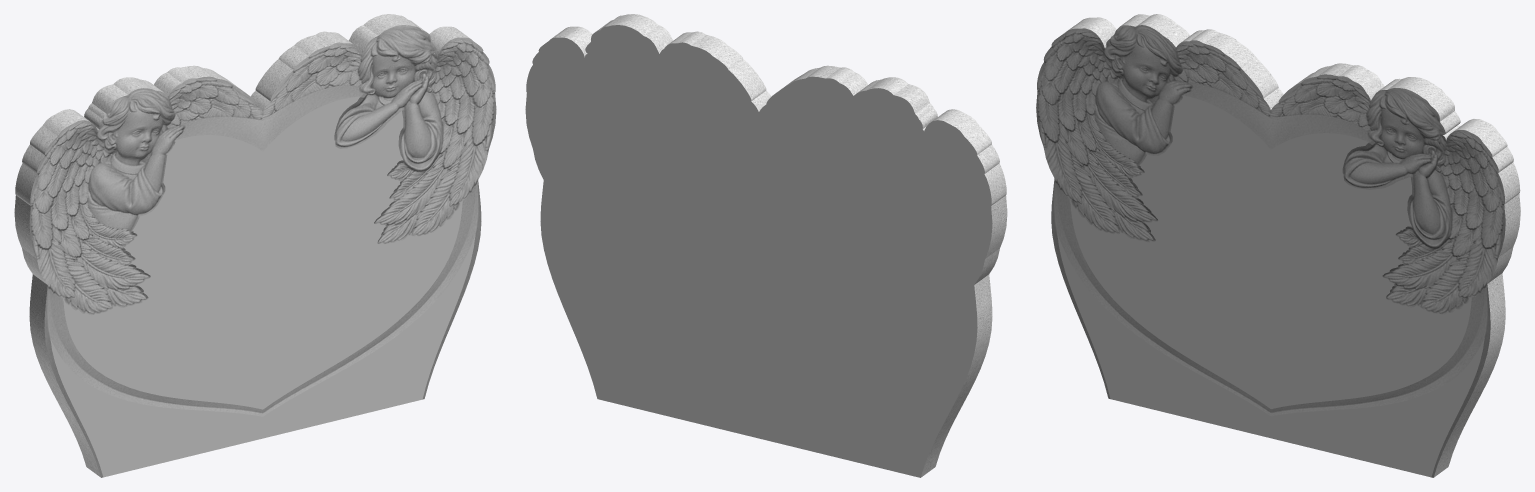
File: cn17c6a5d7bc_tkf.glb
3 renders of one model, left to right at view 1: azimuth 30°, elevation 25°; view 2: azimuth 150°, elevation 25°; view 3: azimuth 330°, elevation 25°, orthographic.
Parts seen in each view (by area): view 1: Pam-d03-244, Pam-d03-244_2_notexture; view 2: Pam-d03-244, Pam-d03-244_2_notexture; view 3: Pam-d03-244, Pam-d03-244_2_notexture.
Part boxes in pixels (<box>): Pam-d03-244: <box>50,96,475,477</box>; Pam-d03-244_2_notexture: <box>14,14,496,477</box>; Pam-d03-244: <box>525,25,992,477</box>; Pam-d03-244_2_notexture: <box>551,14,1007,477</box>; Pam-d03-244: <box>1057,95,1484,477</box>; Pam-d03-244_2_notexture: <box>1036,14,1520,477</box>.
Size of the model in its own units: 0.9 by 0.7 by 0.05.
1 material, 1 textured.
